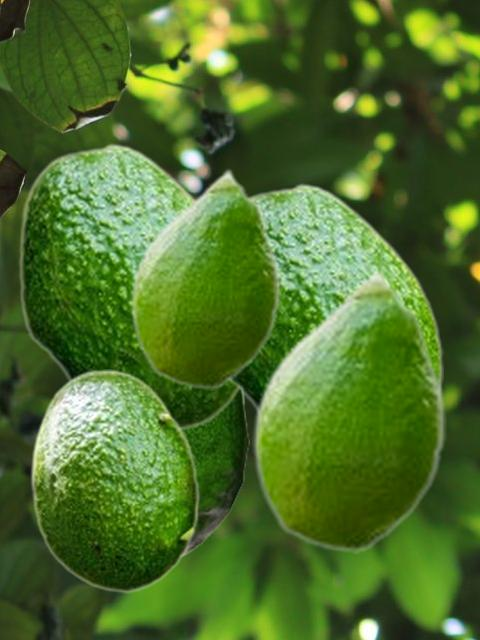avocado: (17, 142, 240, 434), (252, 266, 445, 552), (228, 182, 442, 410), (29, 369, 199, 592), (130, 167, 280, 389), (183, 394, 248, 559)
